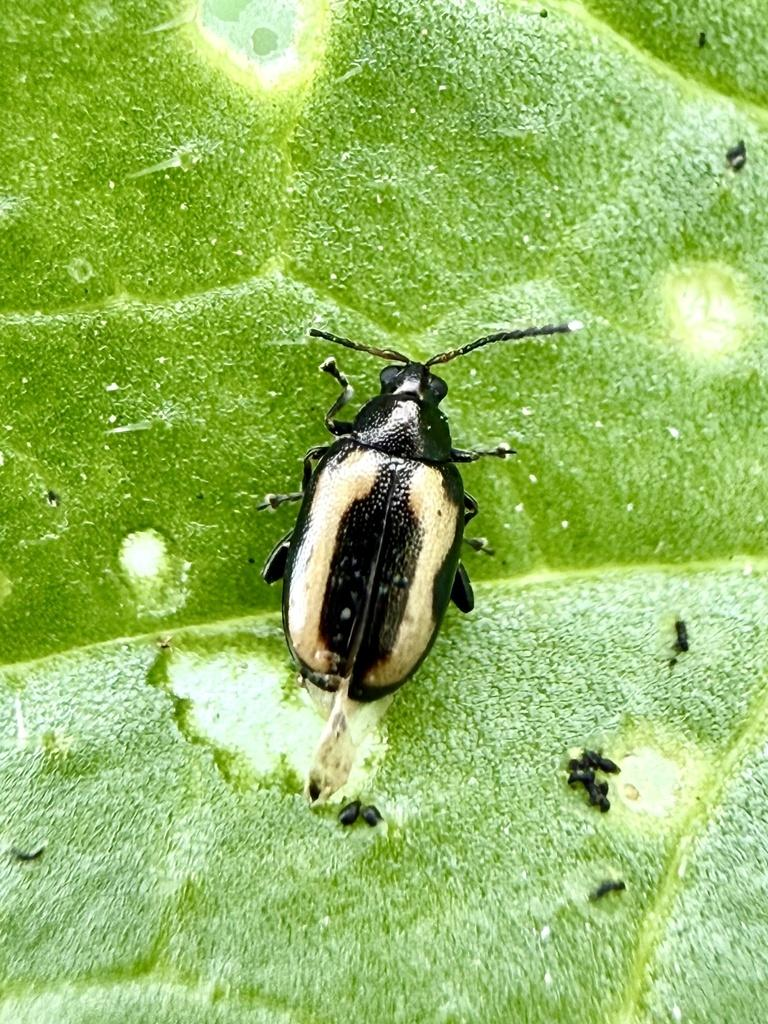flea_beetle: (189, 252, 578, 745)
